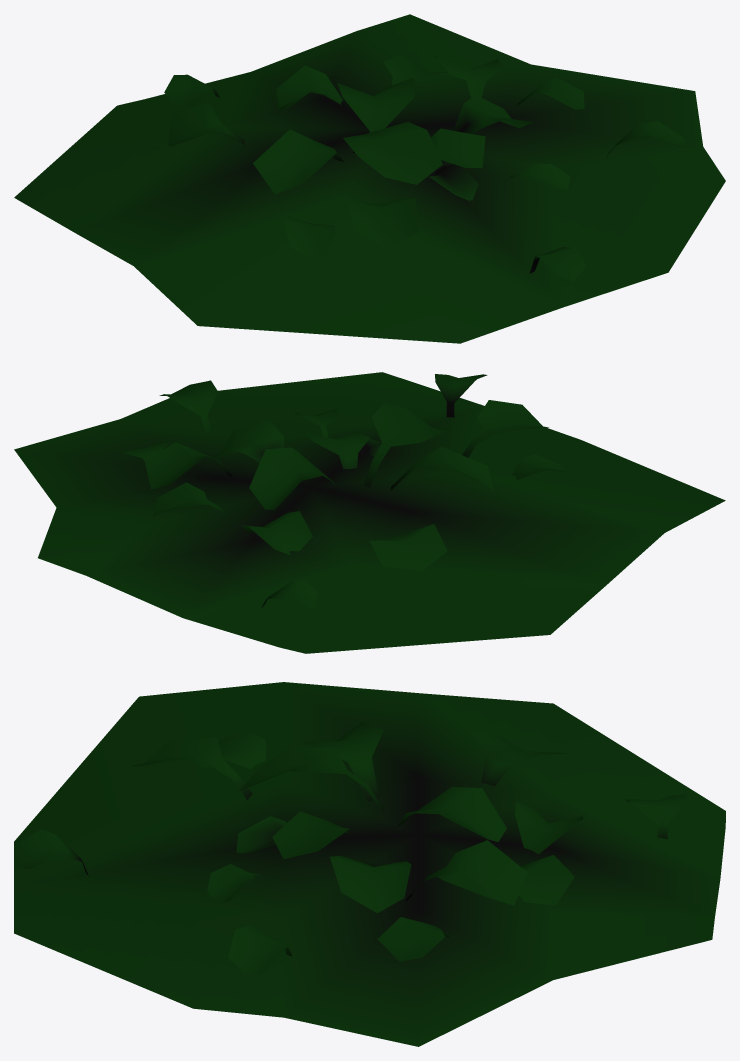
Rendered from GroundIviGCATA_A.fbx.
The picture shows the model from 3 angles, top to bottom: view 1: azimuth 30°, elevation 25°; view 2: azimuth 150°, elevation 25°; view 3: azimuth 270°, elevation 25°; orthographic projection. The views are drawn at different scales.
Parts seen in each view (by area): view 1: GIGCATAAMesh_LOD0, GIGCATAAIvi_LOD0; view 2: GIGCATAAMesh_LOD0, GIGCATAAIvi_LOD0; view 3: GIGCATAAMesh_LOD0, GIGCATAAIvi_LOD0.
Boxes of the visible parts, x1,y1,x2,y2 form: GIGCATAAMesh_LOD0: (14,14,725,343); GIGCATAAIvi_LOD0: (164,54,684,280); GIGCATAAMesh_LOD0: (14,372,725,653); GIGCATAAIvi_LOD0: (118,374,570,607); GIGCATAAMesh_LOD0: (14,682,725,1046); GIGCATAAIvi_LOD0: (15,722,686,974).
Size of what is drawn, in the model's own units: 2.02 by 0.3474 by 1.78.
